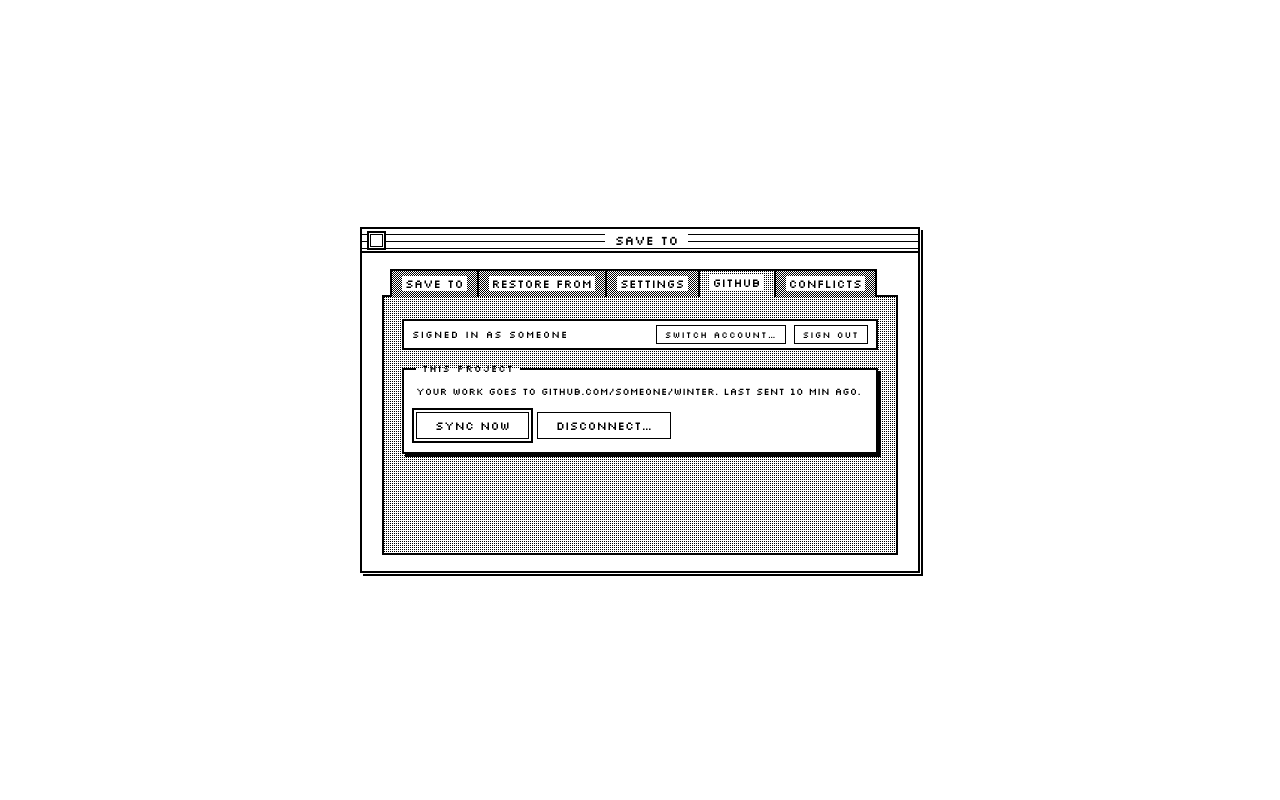
the GitHub tab › switches account by signing out, then asking for the other one
The image size is (1280, 800).
Click the button "Switch Account…": click(721, 334) [656,325,786,344]
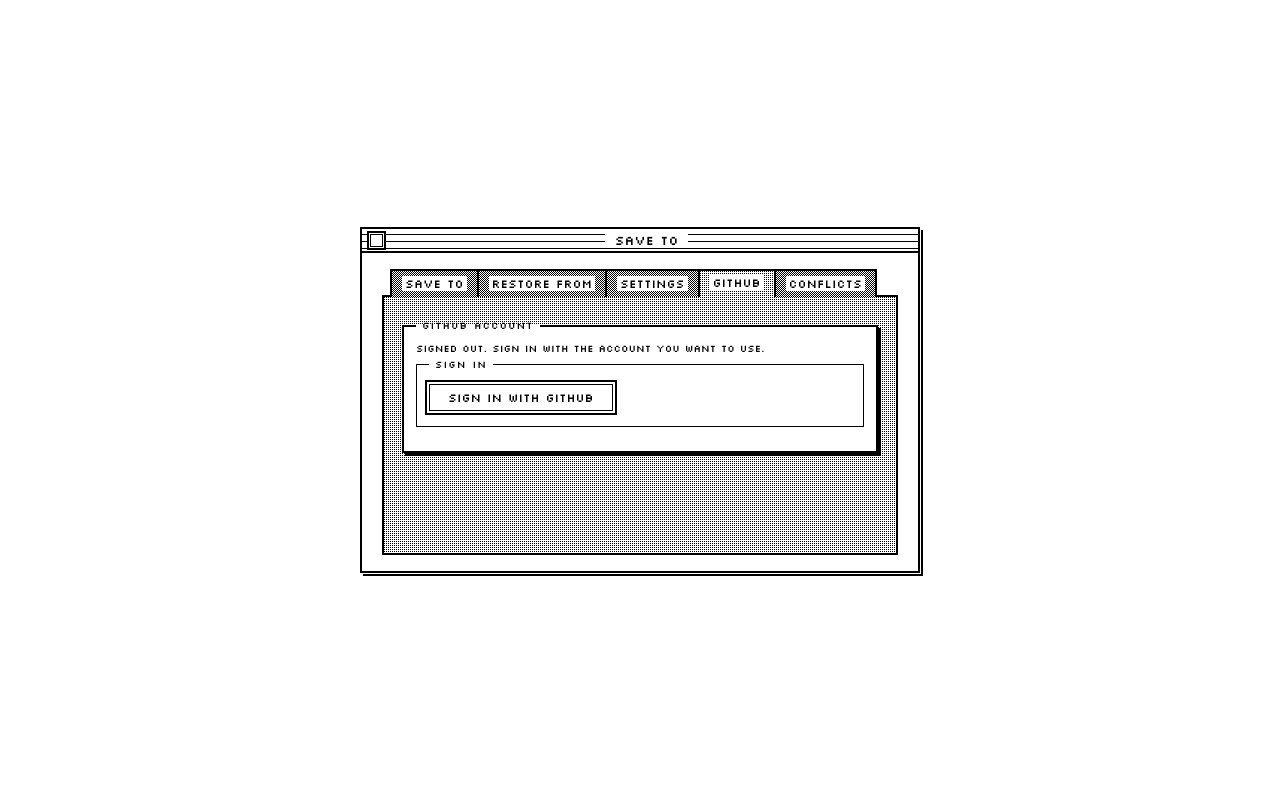
Expected: the text "Signed out. Sign in with the account you want to use." is shown, [416,342,765,355]
